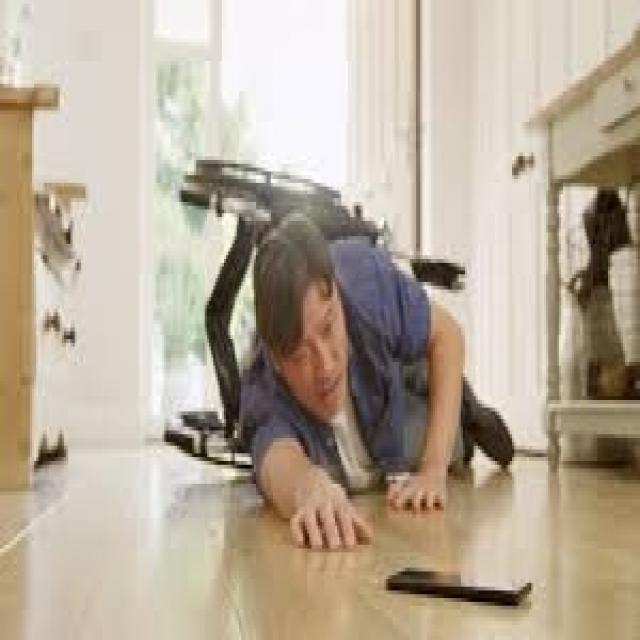fall: (230, 195, 518, 556)
